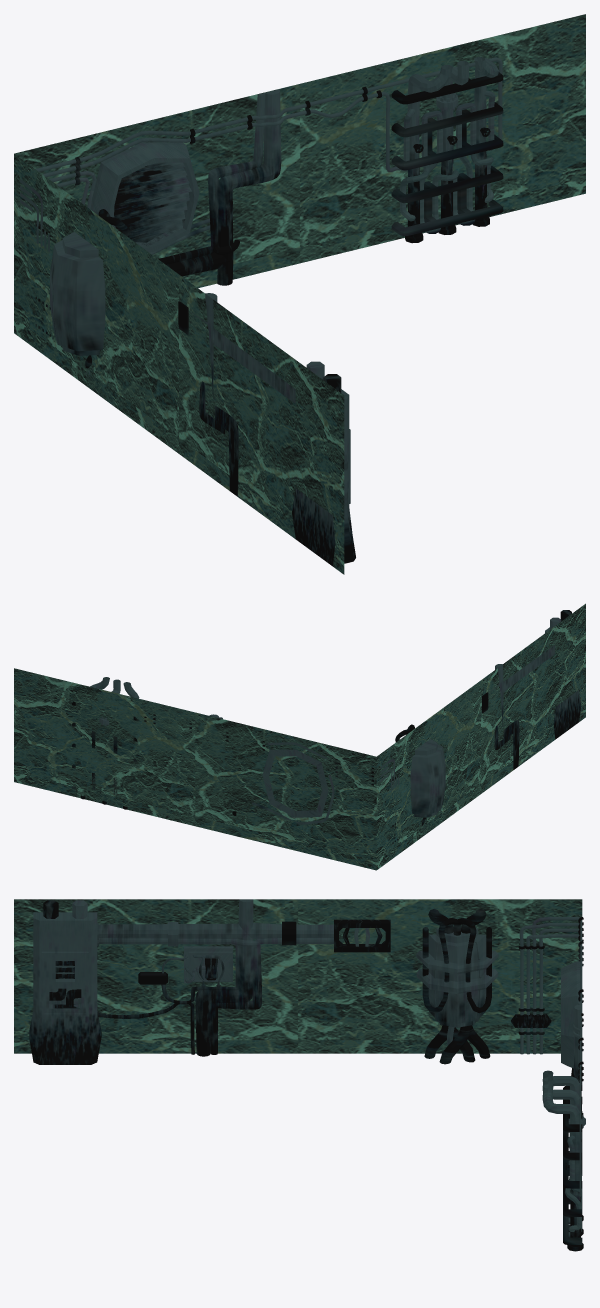
File: wallsdetail.glb
3 renders of one model, top to bottom at view 1: azimuth 30°, elevation 25°; view 2: azimuth 150°, elevation 25°; view 3: azimuth 270°, elevation 25°, orthographic. The views are drawn at different scales.
Visible parts, largest first — view 1: Plane, details; view 2: Plane, details; view 3: Plane, details.
Boxes of the visible parts, x1,y1,x2,y2 form: Plane: (14, 14, 585, 574); details: (20, 57, 503, 566); Plane: (14, 603, 585, 870); details: (72, 610, 581, 845); Plane: (14, 899, 582, 1053); details: (29, 899, 585, 1251).
Size of the model in its own units: 21.14 by 6 by 20.13.
Materials: 2 (2 with a texture image).
